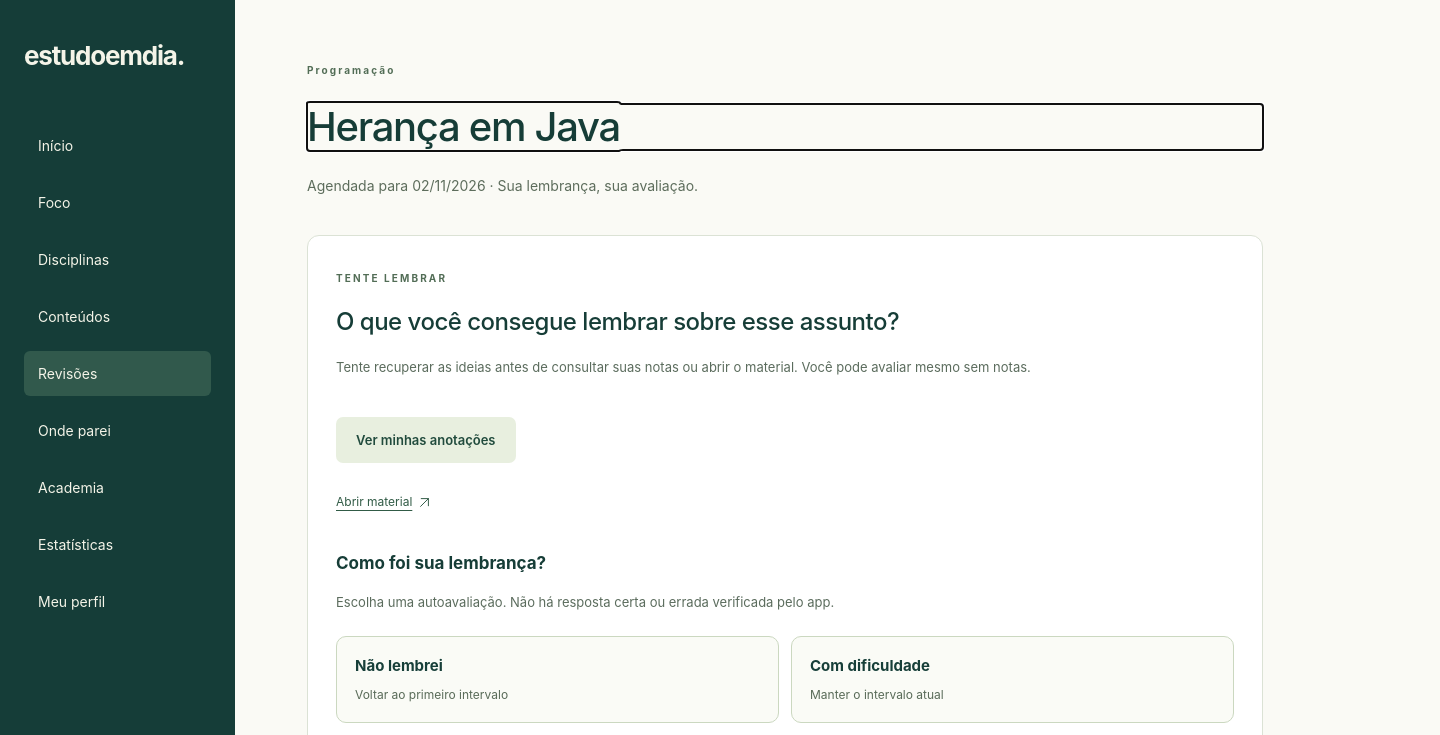
Scenario: revisão por autoavaliação › começa com notas fora do DOM e revelar exibe texto seguro sem enviar avaliação
Expected: the heading "Herança em Java" is shown, [307, 102, 620, 151]
Expected: the text "<script>Minhas próprias anotações</script>" is not shown
Click the button "Ver minhas anotações": {"x": 426, "y": 440} [336, 417, 516, 463]
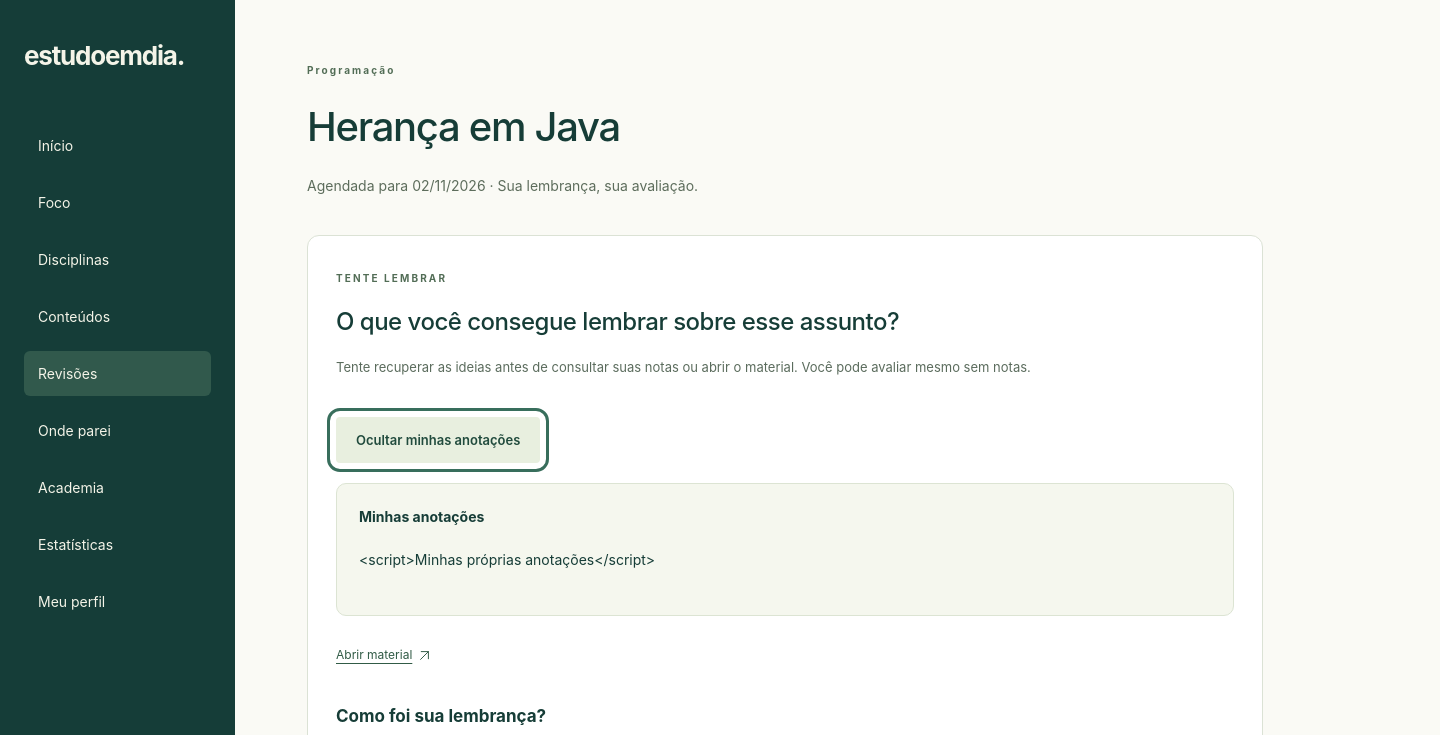
Expected: the text "<script>Minhas próprias anotações</script>" is shown, [359, 551, 655, 568]
Click the button "Ocultar minhas anotações": {"x": 438, "y": 440} [336, 417, 540, 463]
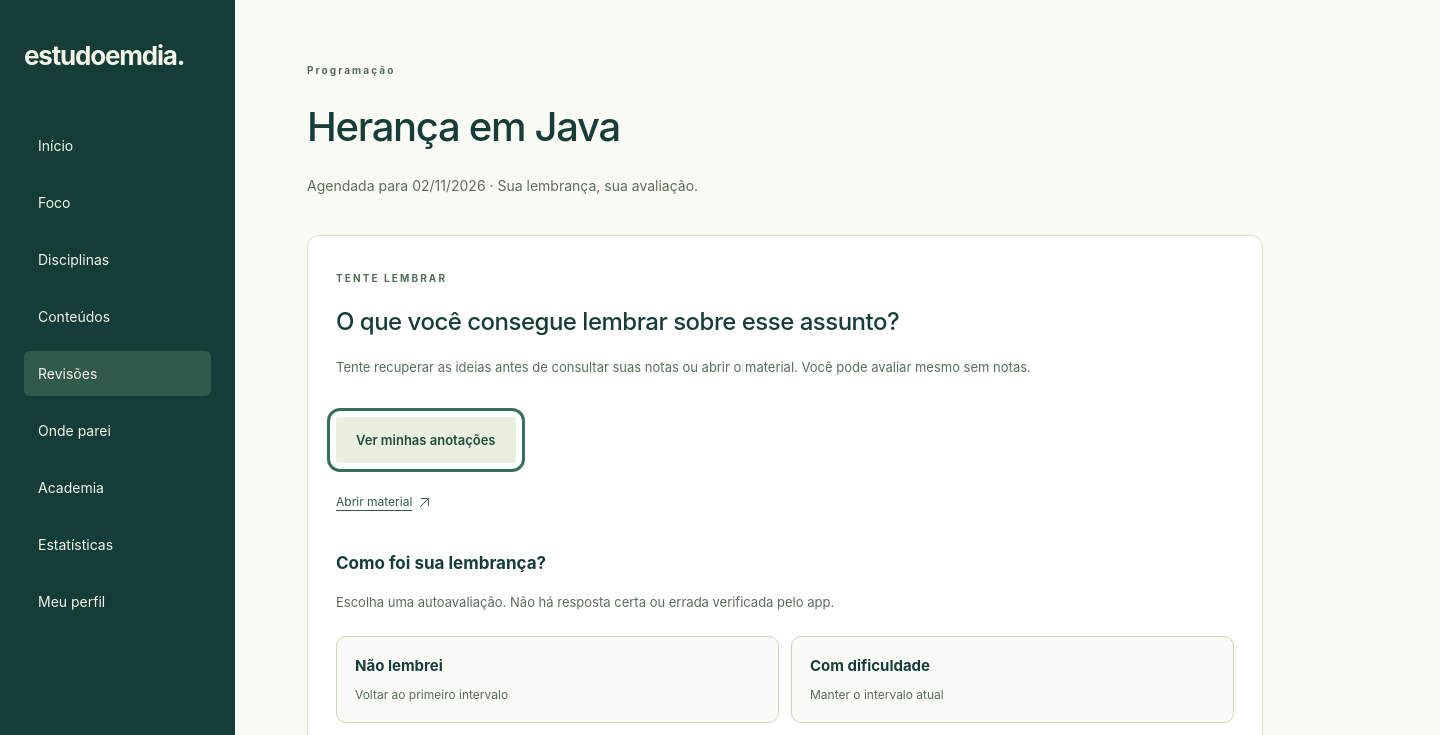
Expected: the text "<script>Minhas próprias anotações</script>" is gone
